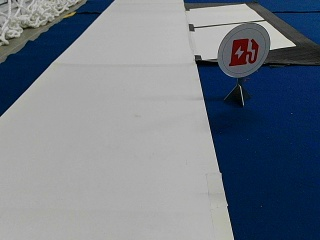battery: (217, 23, 270, 77)
